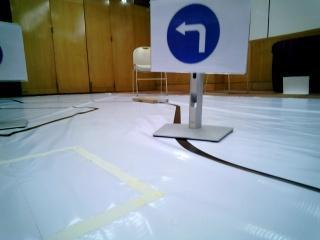left: (162, 2, 245, 66)
